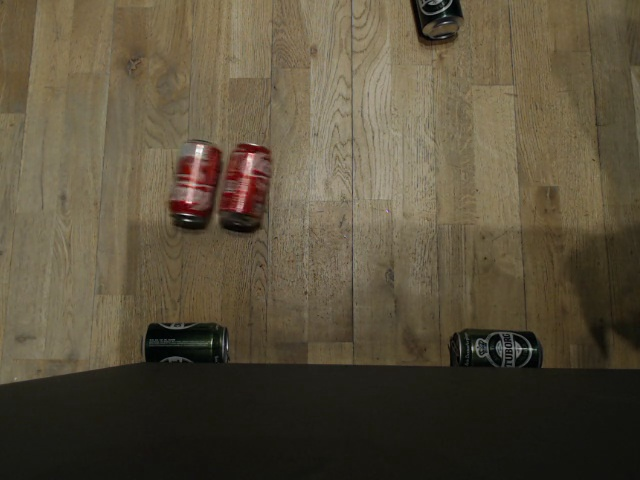beer: (136, 319, 232, 366), (449, 326, 545, 368), (407, 0, 466, 43)
cola: (167, 139, 224, 226), (219, 139, 271, 227)
